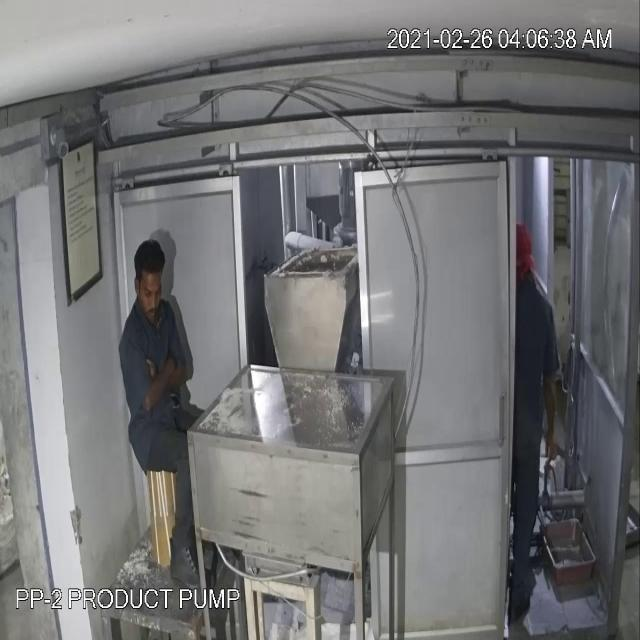no-helmet: (128, 231, 172, 295)
